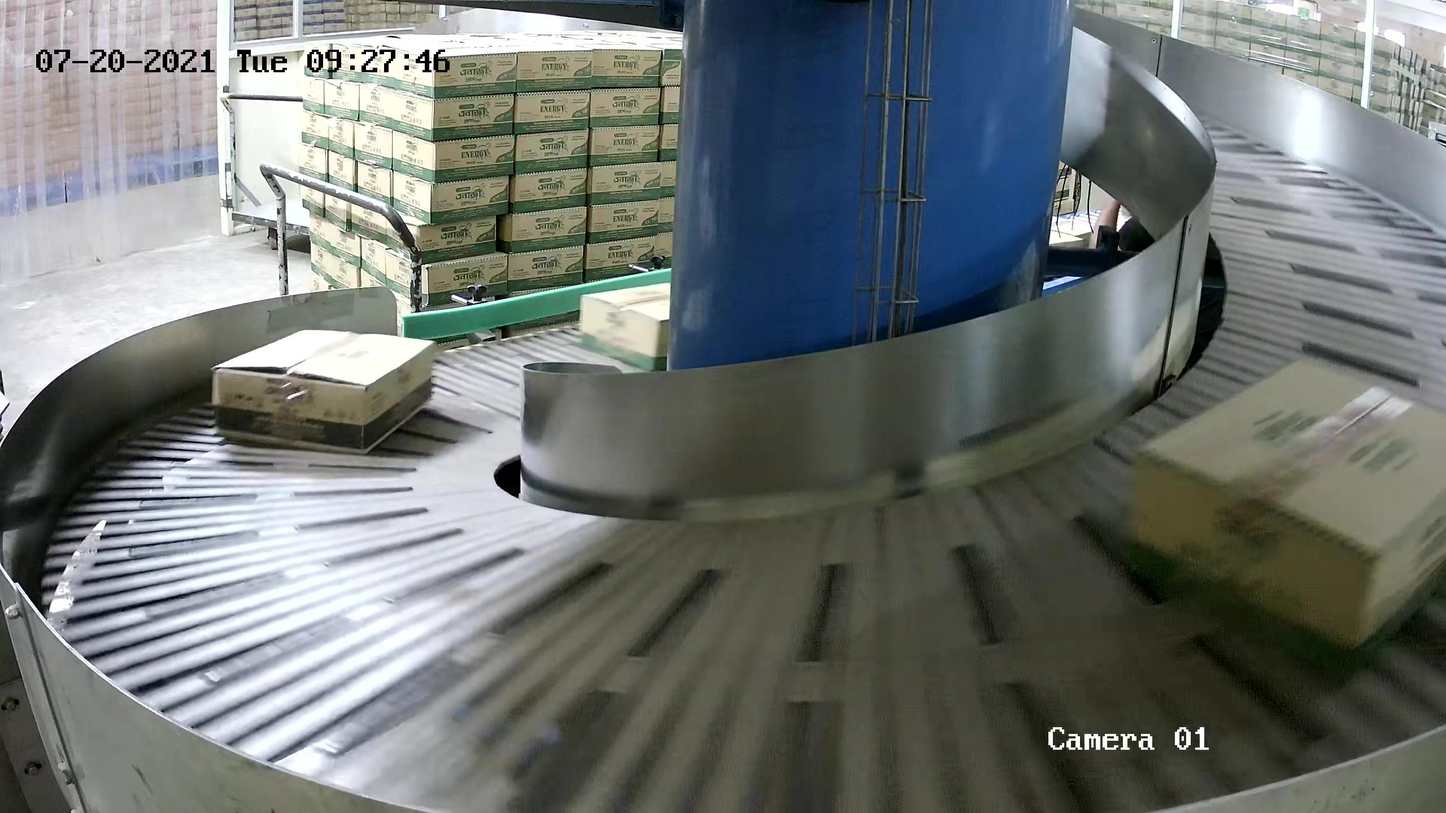Box: (1121, 356, 1446, 683), (210, 329, 436, 455), (579, 282, 670, 371)
